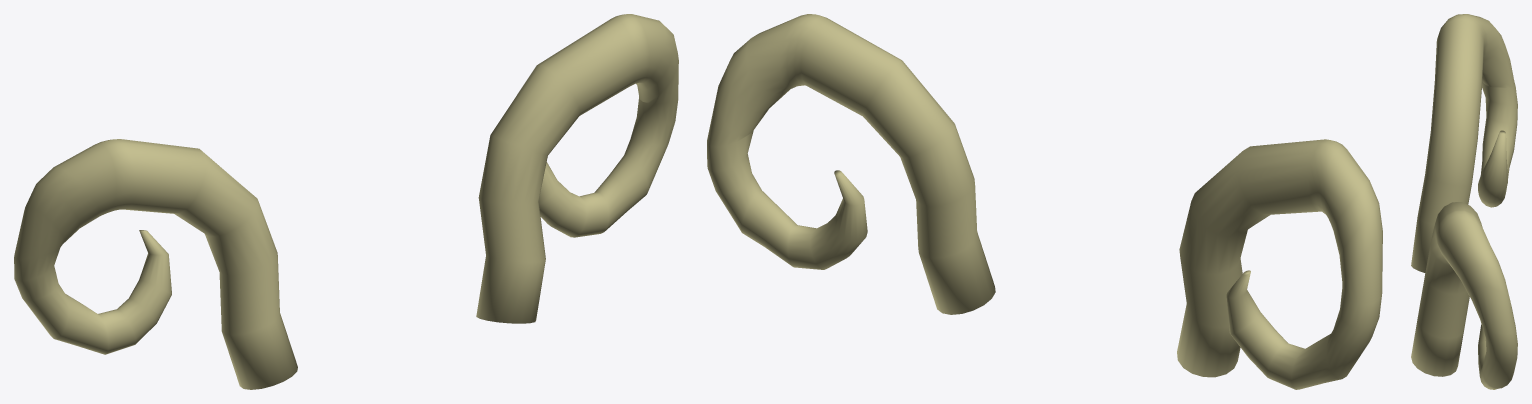
File: RAM Horns.fbx
The picture shows the model from 3 angles, left to right: view 1: azimuth 30°, elevation 25°; view 2: azimuth 150°, elevation 25°; view 3: azimuth 270°, elevation 25°; orthographic projection. The views are drawn at different scales.
Visible parts, largest first — view 1: Cylinder; view 2: Cylinder; view 3: Cylinder.
Part boxes in pixels (bbox=[...]): Cylinder: bbox=[14, 14, 678, 389]; Cylinder: bbox=[707, 14, 1382, 389]; Cylinder: bbox=[1411, 14, 1517, 389].
Bounding box in the file's own units: 2513 × 964 × 448.
